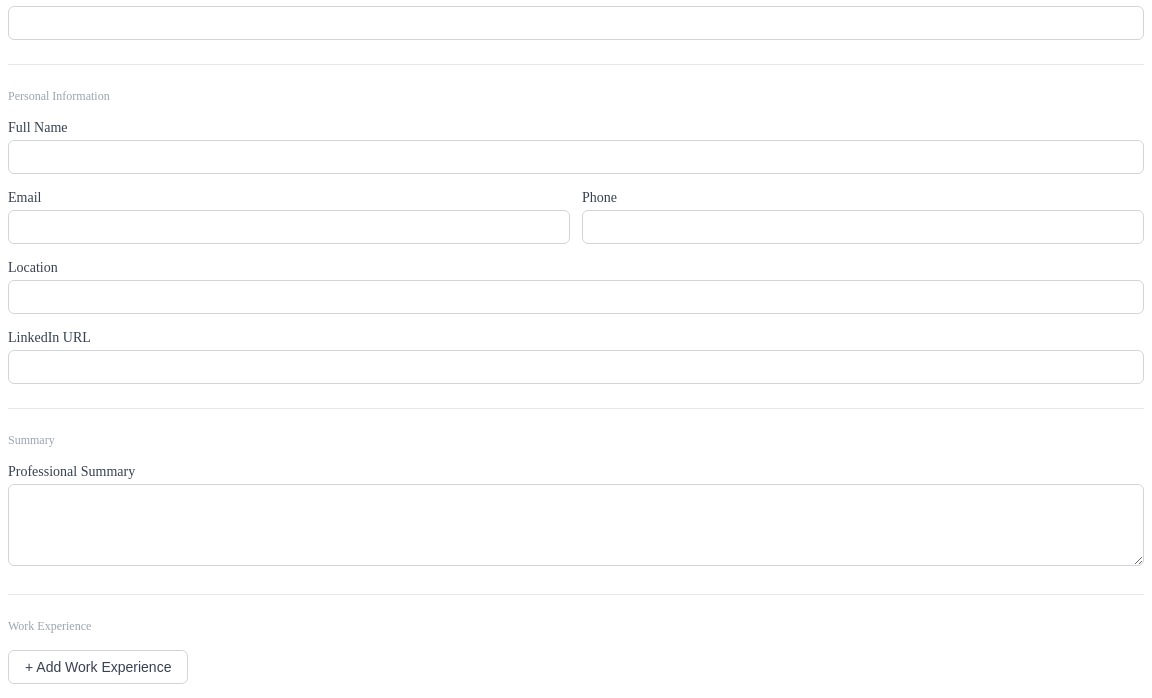
it: CvEditorForm › adds a new work experience entry when clicking Add
Expected: the text "Experience 1" is not shown
Click the button "+ Add Work Experience": (98, 667) [8,650,188,684]
(page scrolled)
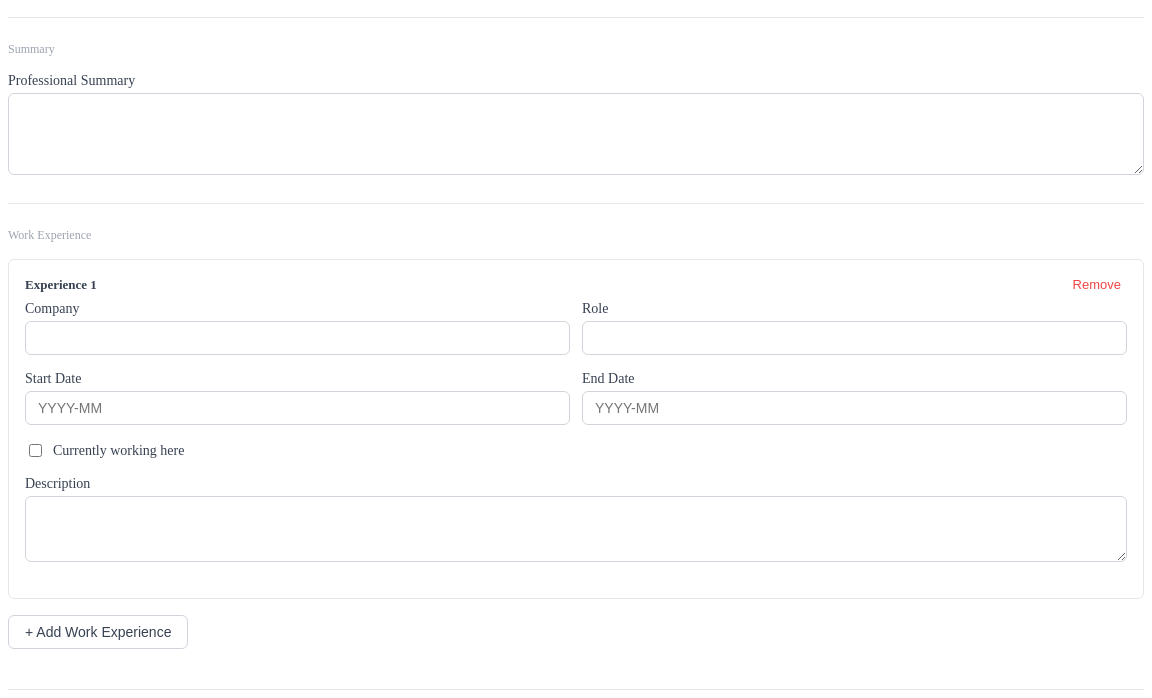
Now the text "Experience 1" is shown, box [25,276,97,292]
Now the field labelled "Company" is shown, box [25,321,570,355]
Now the field labelled "Role" is shown, box [582,321,1127,355]
